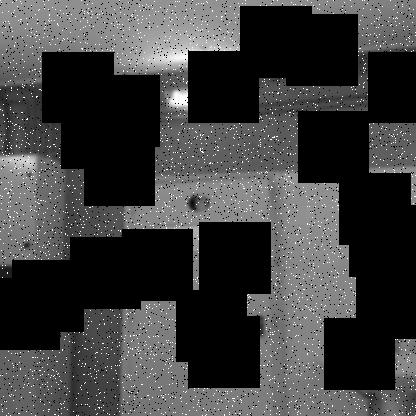Porte: (117, 168, 286, 416)
